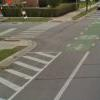Crosswalk: (12, 17, 52, 99)
